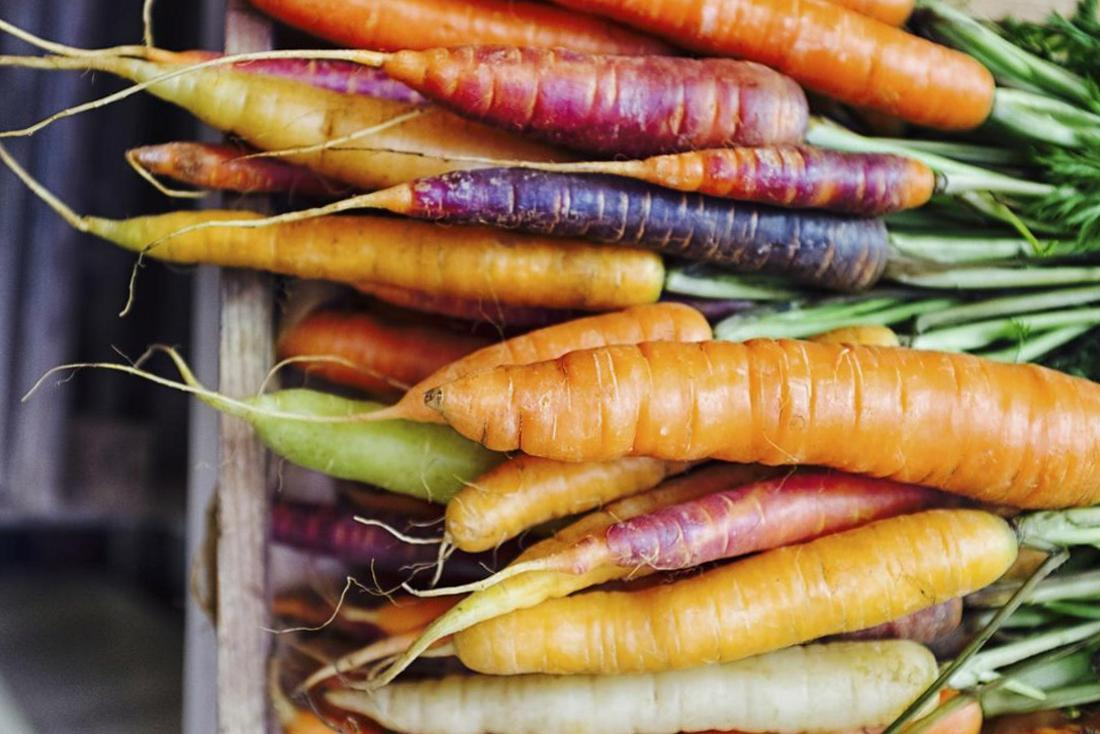carrot: (367, 304, 1100, 511), (33, 169, 648, 319), (393, 552, 1088, 648), (190, 1, 1048, 47)
